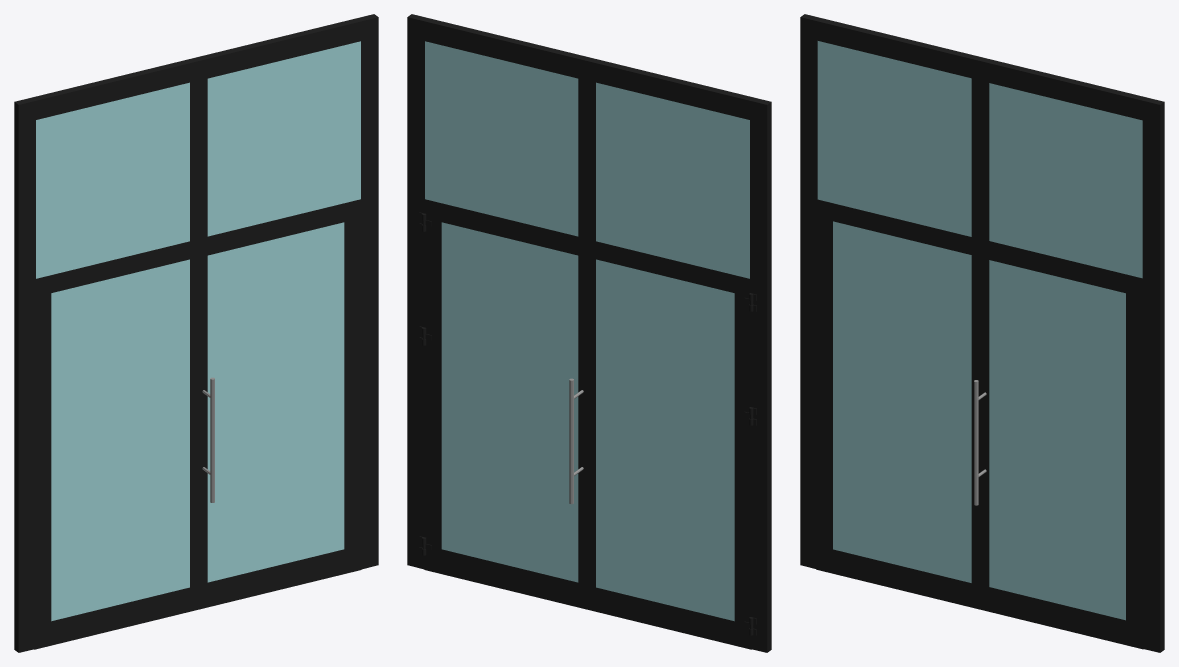
File: Main Entrance Door.fbx
The picture shows the model from 3 angles, left to right: view 1: azimuth 30°, elevation 25°; view 2: azimuth 150°, elevation 25°; view 3: azimuth 330°, elevation 25°; orthographic projection.
Visible parts, largest first — view 1: MainEnterance0.001, MainEnterance0.002, MainEnterenceWing0.001, DoorWing0P.011; view 2: MainEnterance0.001, MainEnterance0.002, MainEnterenceWing0.001, DoorWing0P.011; view 3: MainEnterance0.001, MainEnterenceWing0.001, MainEnterance0.002, DoorWing0P.011.
Part boxes in pixels (x1,y1,x2,y2): MainEnterance0.001: [14, 14, 378, 652]; MainEnterance0.002: [34, 248, 198, 649]; MainEnterenceWing0.001: [198, 207, 361, 609]; DoorWing0P.011: [202, 377, 214, 502]; MainEnterance0.001: [407, 14, 771, 652]; MainEnterance0.002: [587, 248, 753, 649]; MainEnterenceWing0.001: [422, 207, 587, 609]; DoorWing0P.011: [569, 378, 583, 504]; MainEnterance0.001: [800, 14, 1164, 652]; MainEnterenceWing0.001: [980, 248, 1143, 649]; MainEnterance0.002: [816, 206, 980, 609]; DoorWing0P.011: [974, 380, 986, 505].
Size of the model in its own units: 268 by 391 by 34.15.
